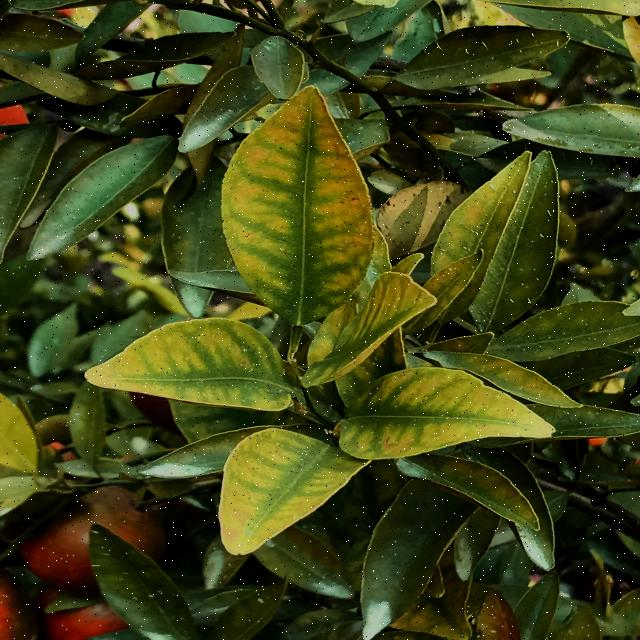greening: (218, 88, 379, 320), (89, 320, 278, 408), (346, 379, 558, 455), (212, 438, 344, 550)
